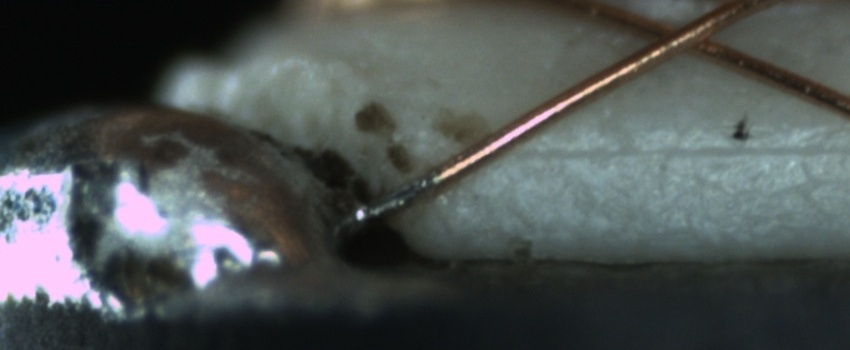CL: (633, 8, 732, 64)
DL: (508, 122, 849, 186)
TS: (338, 169, 444, 233)
